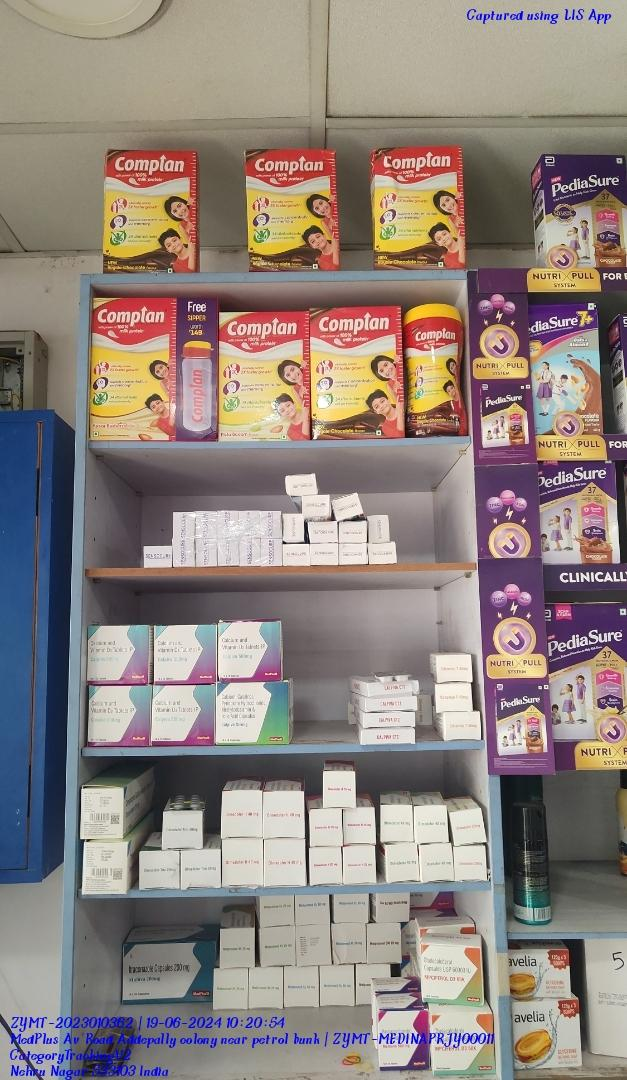COMPLAN_CHOCOLATE_500_GMS_JAR: (407, 306, 466, 436)
COMPLAN_PISTA_BADAM_500_GMS_PACK: (219, 312, 309, 441)
